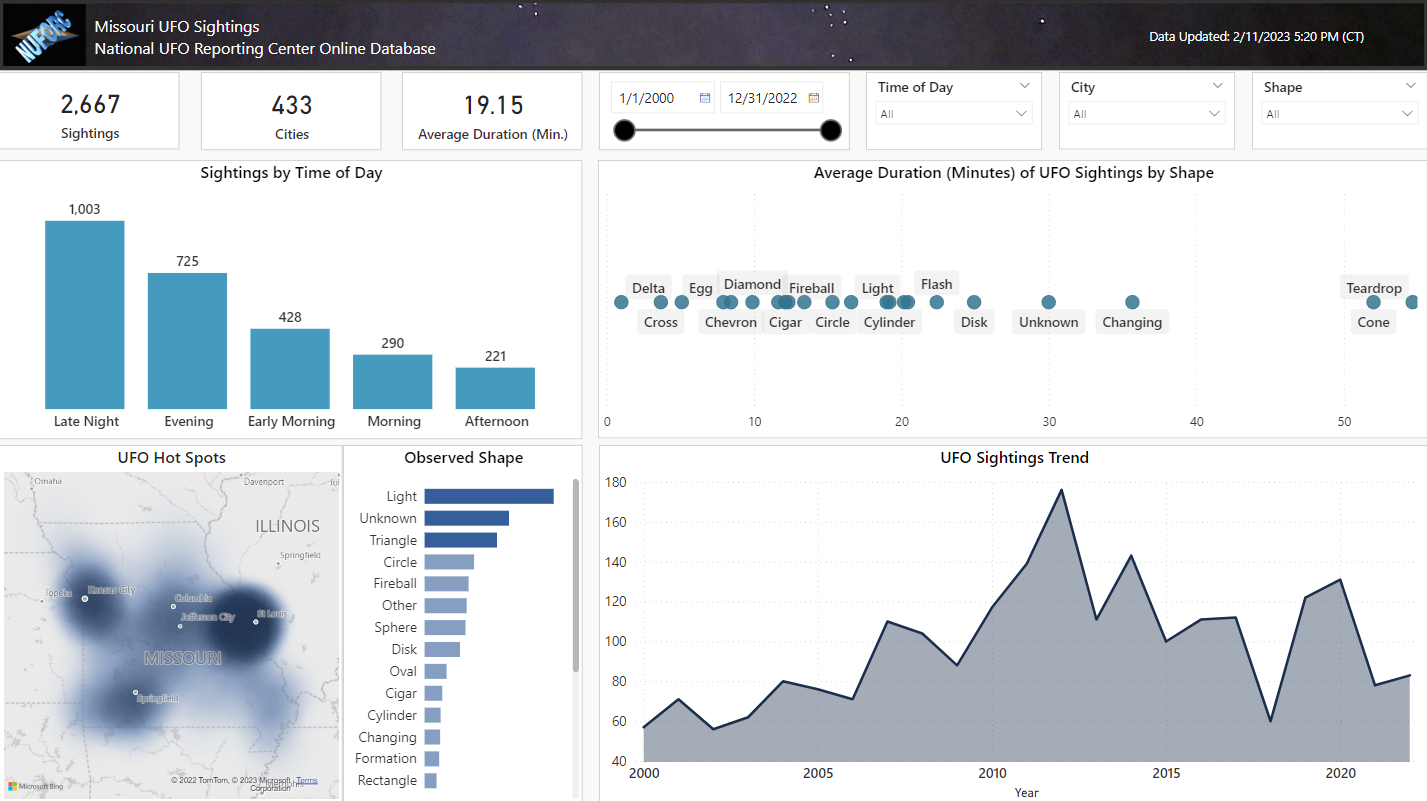

The page's visual inventory and layout, read from the dashboard file:
{"tool":"powerbi","page":{"name":"Dashboard","canvas":[1664,936],"ordinal":0},"visuals":[{"type":"image","box":[0,0,1664,83.1],"z":0},{"type":"image","box":[0,0,105.6,83.2],"z":3000},{"type":"map","title":"UFO Hot Spots","fields":{"Size":["-Measures.Sightings"],"Y":["Data.Latitude"],"X":["Data.Longitude"]},"box":[0,519.7,400,416.3],"z":3250},{"type":"clusteredBarChart","title":"Observed Shape","fields":{"Category":["Data.Shape"],"Y":["-Measures.Sightings"]},"box":[400,519.7,279.1,416.3],"z":3500},{"type":"textbox","box":[106,13.4,450.8,69.8],"z":4000},{"type":"card","fields":{"Values":["-Measures.Sightings"]},"box":[0,84.8,210,90.2],"z":6000},{"type":"clusteredColumnChart","title":"Sightings by Time of Day","fields":{"Category":["Data.Time of Day"],"Y":["-Measures.Sightings"]},"box":[0,187,679,325],"z":6500},{"type":"card","fields":{"Values":["-Measures.Average Duration"]},"box":[469.7,84.9,210,90.7],"z":7000},{"type":"card","fields":{"Values":["-Measures.Cities"]},"box":[234.9,84.9,210,90.7],"z":8000},{"type":"slicer","fields":{"Values":["Date.Date"]},"box":[698,84.9,291.8,90.7],"z":9000},{"type":"slicer","fields":{"Values":["Data.Time of Day"]},"box":[1009.6,84.9,205,90.7],"z":10000},{"type":"slicer","fields":{"Values":["Data.City All"]},"box":[1234.3,85,205,89.5],"z":11000},{"type":"slicer","fields":{"Values":["Data.Shape"]},"box":[1459,84.9,205,89.5],"z":12000},{"type":"textbox","box":[1333.7,27.9,330.2,47.7],"z":14000},{"type":"areaChart","title":"UFO Sightings Trend","fields":{"Y":["-Measures.Sightings"],"Category":["Date.Year Hierarchy.Year","Date.Year Hierarchy.Month"]},"box":[698.1,520.3,965.9,416],"z":14500},{"type":"scatterChart","title":"Average Duration (Minutes) of UFO Sightings by Shape","fields":{"Category":["Data.Shape"],"X":["-Measures.Average Duration (Min.)"]},"box":[697.6,187.2,966.2,324.4],"z":15000}]}

Visuals, with their boxes in screenshot pixels (x1, y1, x2, y2), scaled from the page's 1664x936 canvas onto the 1427x801 screenshot:
image: locate(0, 0, 1426, 71)
image: locate(0, 0, 91, 71)
"UFO Hot Spots" map: locate(0, 445, 343, 800)
"Observed Shape" clusteredBarChart: locate(343, 445, 582, 800)
textbox: locate(91, 11, 477, 71)
card - -Measures.Sightings: locate(0, 73, 180, 150)
"Sightings by Time of Day" clusteredColumnChart: locate(0, 160, 582, 438)
card - -Measures.Average Duration: locate(403, 73, 583, 150)
card - -Measures.Cities: locate(201, 73, 382, 150)
slicer - Date.Date: locate(599, 73, 849, 150)
slicer - Data.Time of Day: locate(866, 73, 1042, 150)
slicer - Data.City All: locate(1059, 73, 1234, 149)
slicer - Data.Shape: locate(1251, 73, 1426, 149)
textbox: locate(1144, 24, 1426, 65)
"UFO Sightings Trend" areaChart: locate(599, 445, 1426, 800)
"Average Duration (Minutes) of UFO Sightings by Shape" scatterChart: locate(598, 160, 1426, 438)
